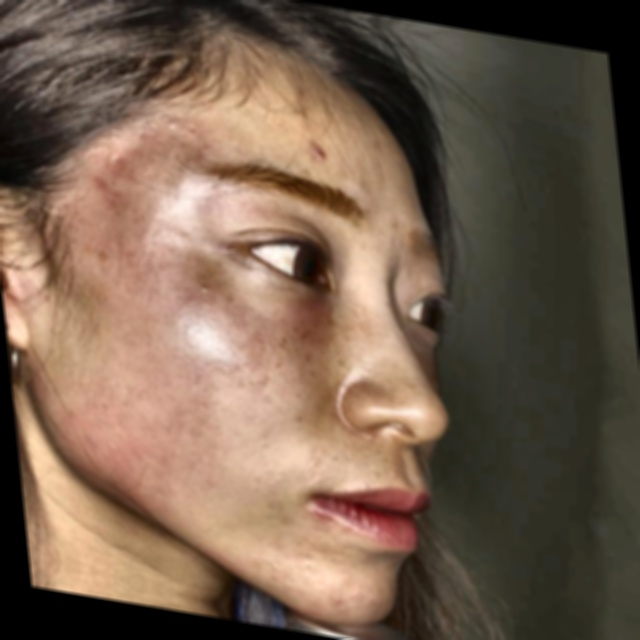comedone: (296, 131, 331, 165), (316, 581, 350, 611), (293, 595, 317, 623)
